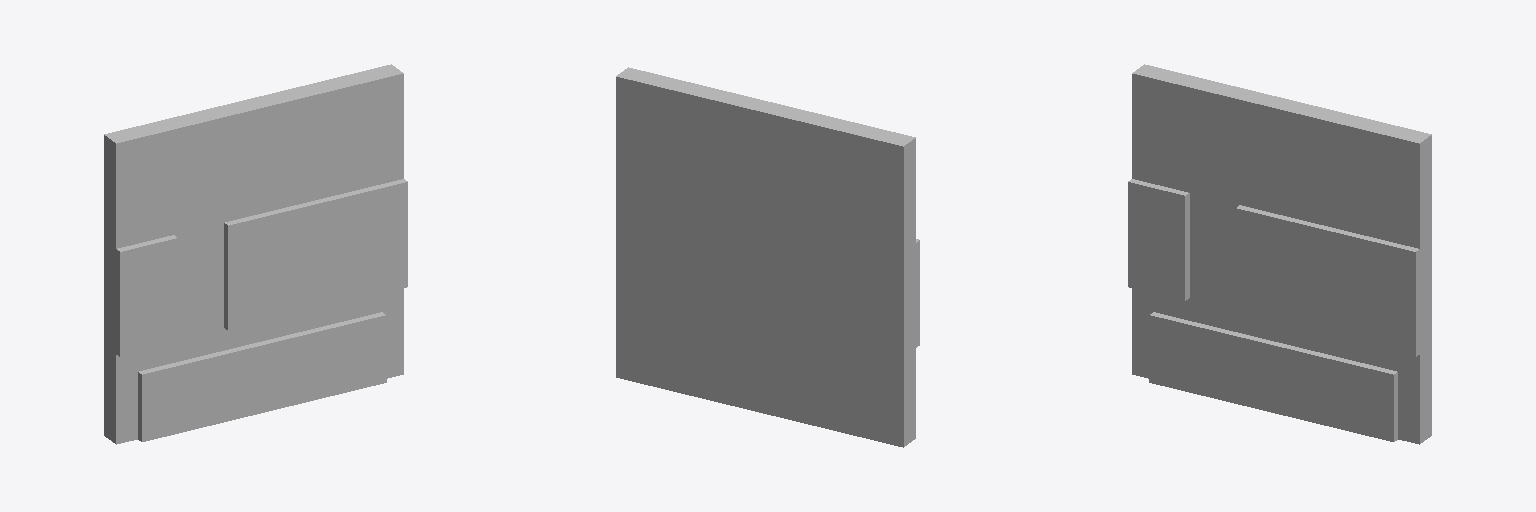
The model's file is wall tile 02.obj.
The picture shows the model from 3 angles: view 1: azimuth 30°, elevation 25°; view 2: azimuth 150°, elevation 25°; view 3: azimuth 330°, elevation 25°; orthographic projection.
Bounding box in the file's own units: 40 × 40 × 4.